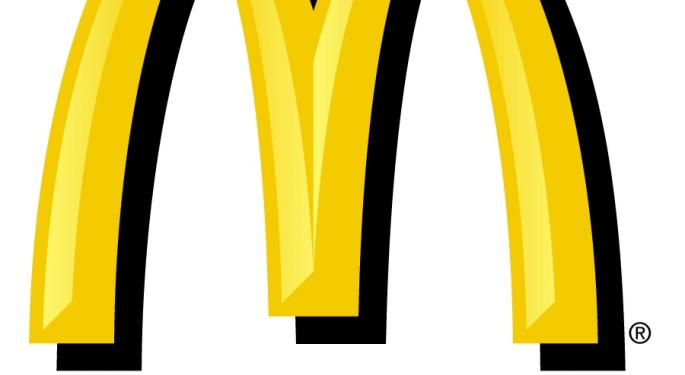mcdonalds: (27, 2, 598, 345), (28, 1, 600, 343)
